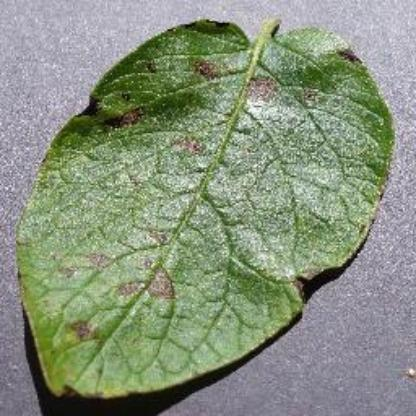Early-Blight: (15, 14, 401, 400)
